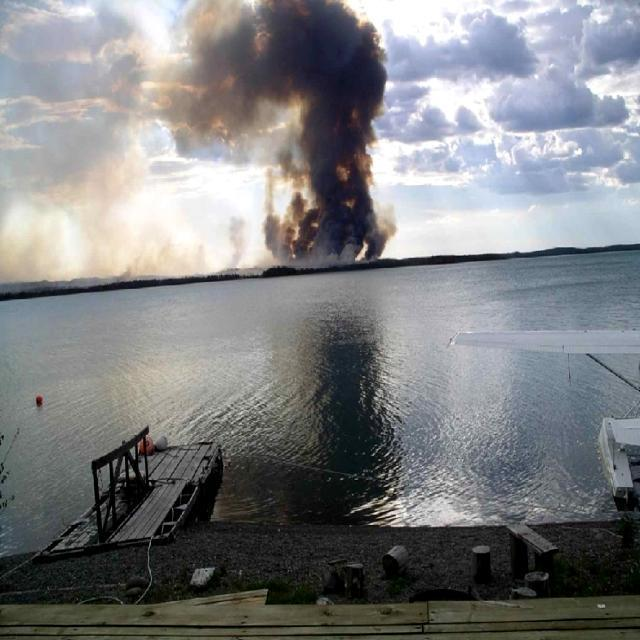Smoke: (188, 0, 394, 272)
